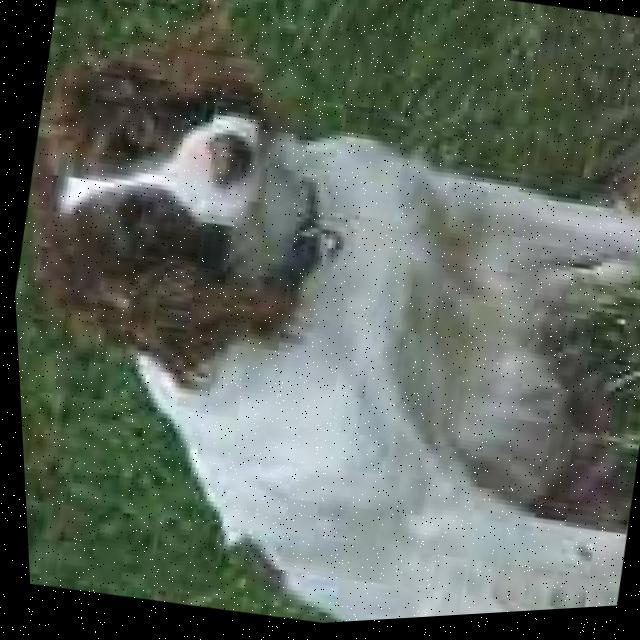dogs: (1, 6, 640, 640)
